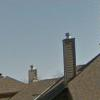Chimney: (55, 26, 79, 81)
